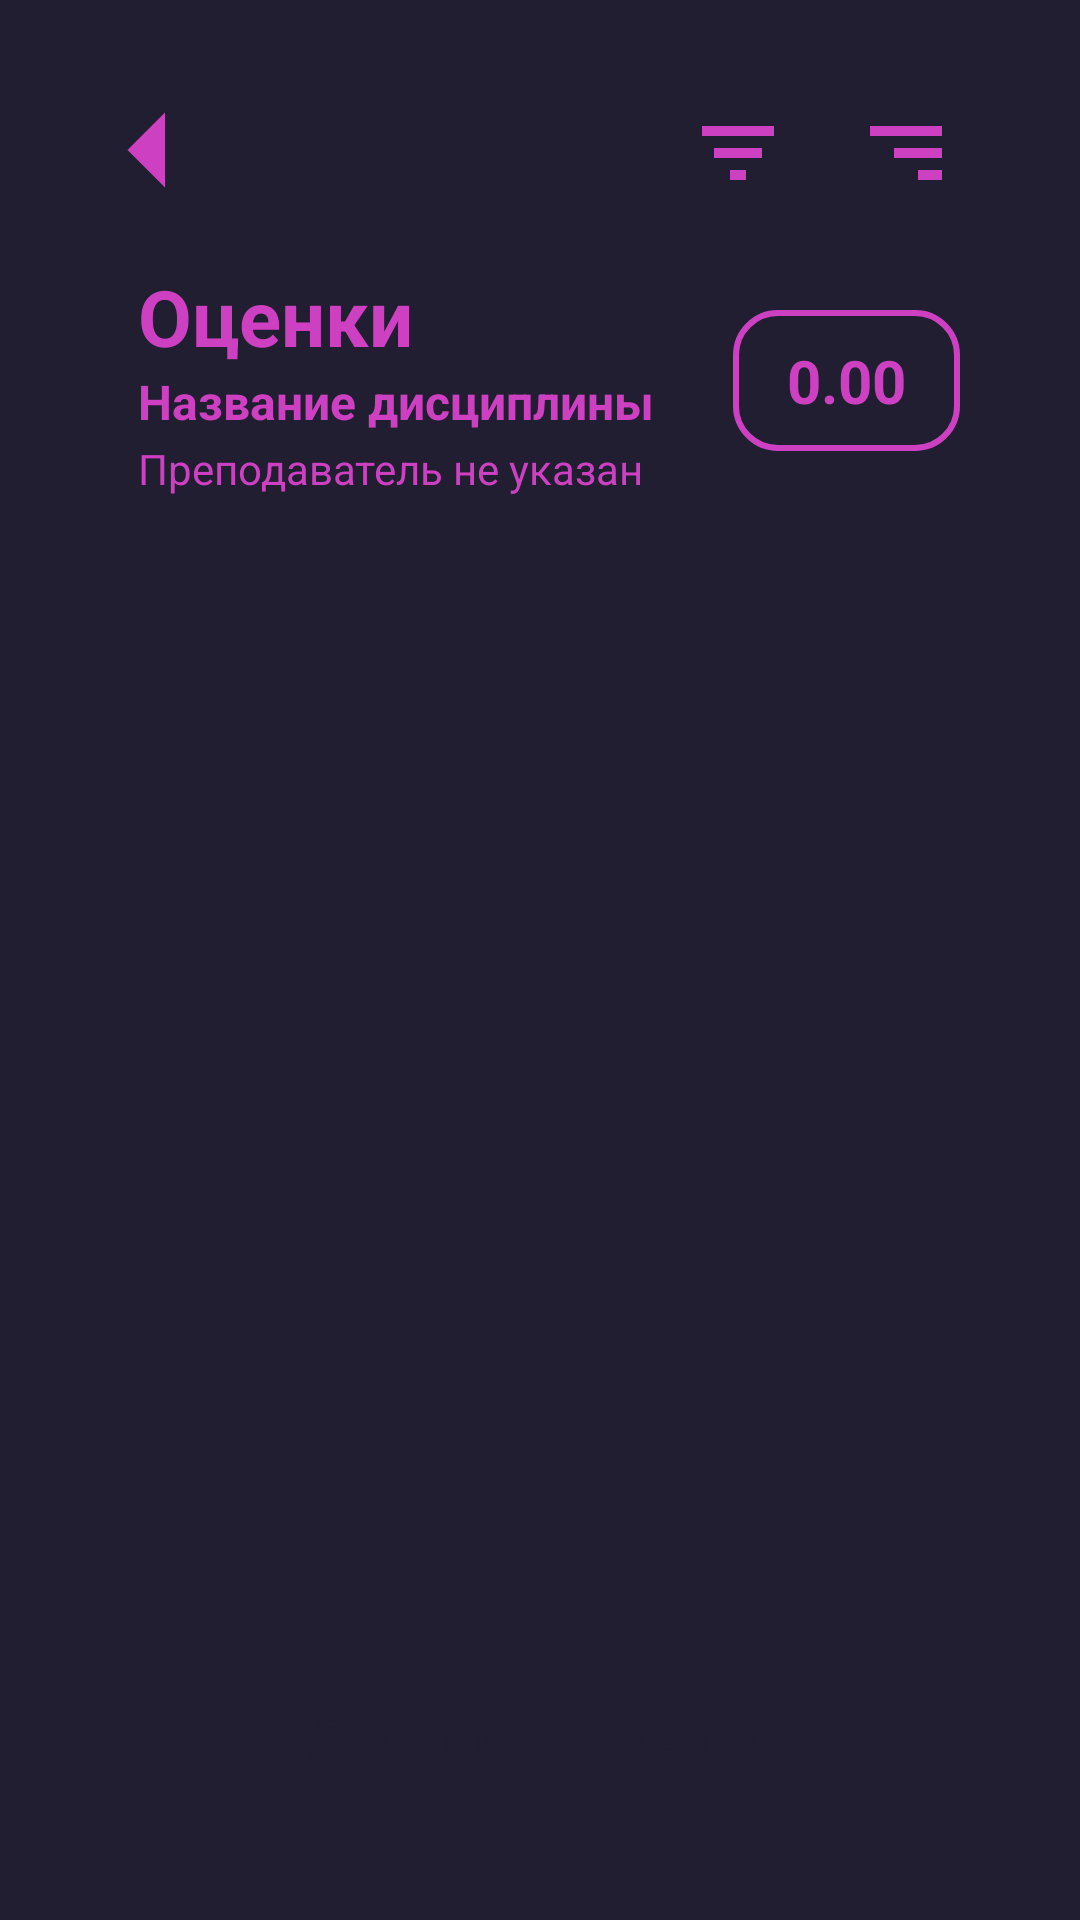

Where to tap for icons on this 1080×1920 app screen, as point (x, y):
Назад: point (146, 150)
Сортировка: point (906, 153)
Фильтр: point (738, 153)
